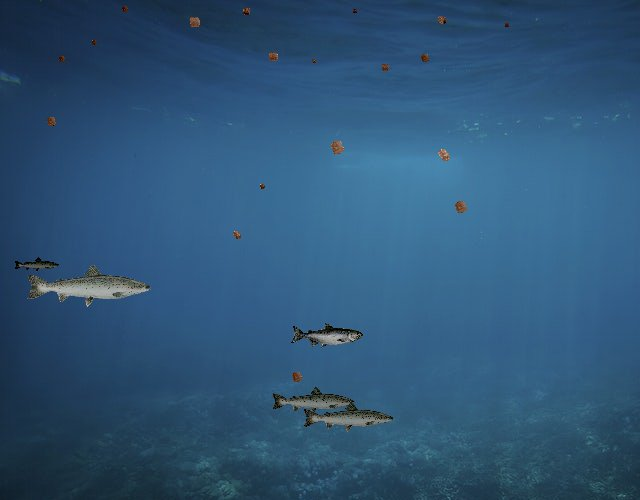Fish: (24, 262, 153, 308), (301, 401, 395, 435), (270, 385, 356, 416), (291, 322, 364, 349), (13, 257, 60, 274)
Pellet: (430, 142, 457, 169), (448, 194, 473, 220), (183, 10, 206, 33), (286, 366, 308, 388), (228, 226, 245, 244), (118, 2, 132, 16), (256, 181, 268, 193)
